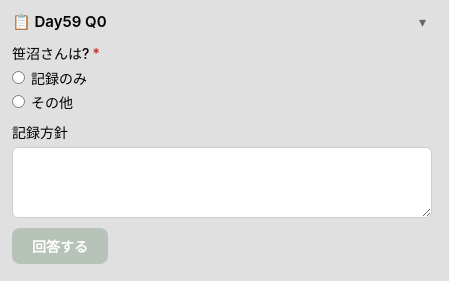
FormBubble › ★ 畳むと本文(intro/フィールド/送信ボタン)が消え、タイトルは残る
Check: the text "笹沼さんは?" is shown, box [12,45,89,62]
Click the button named "折りたたむ" at x=422, y=22, box [413,12,432,33]
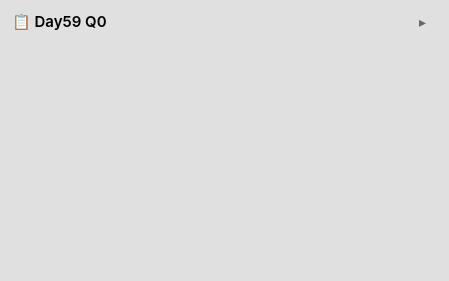
Check: the text "📋 Day59 Q0" is shown, box [12,12,107,31]
Check: the text "笹沼さんは?" is gone
Check: the button "回答する" is gone
